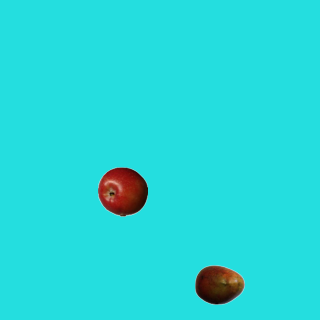Apple Braeburn: (97, 166, 147, 216)
Mango Red: (194, 259, 244, 309)
